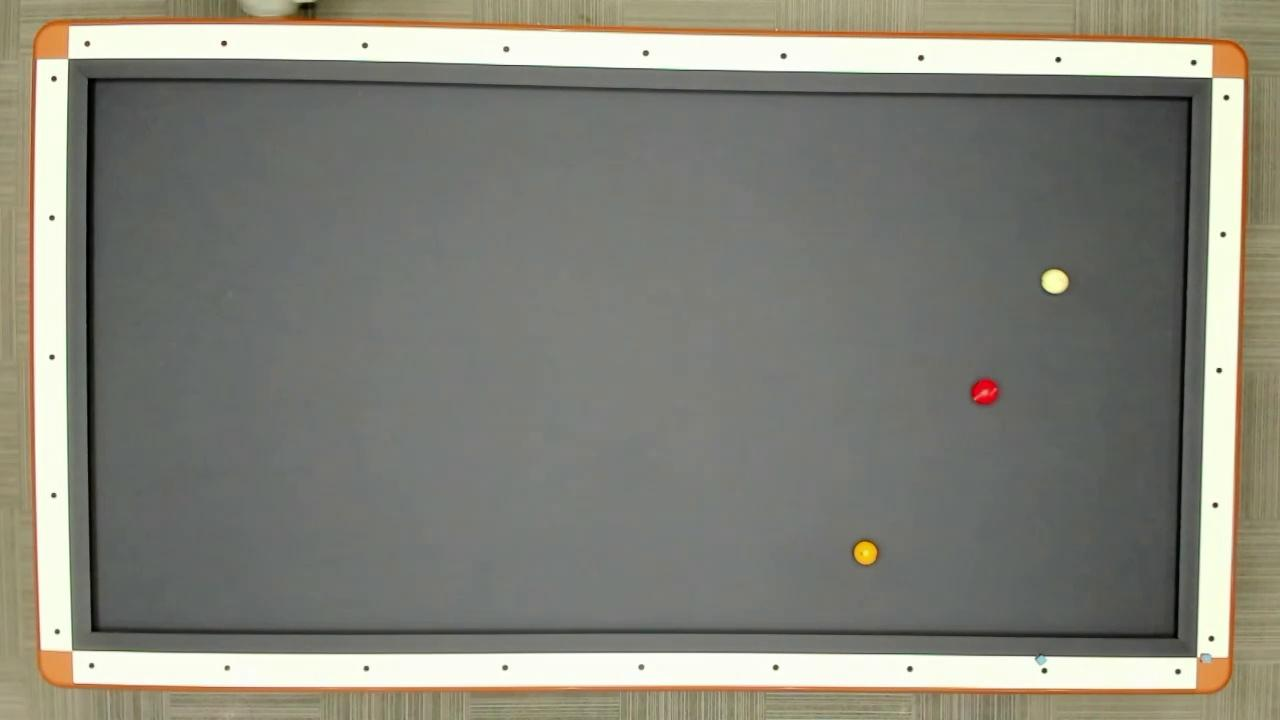Red: (967, 376, 1002, 406)
White: (1040, 266, 1070, 296)
Yellow: (851, 538, 879, 568)
